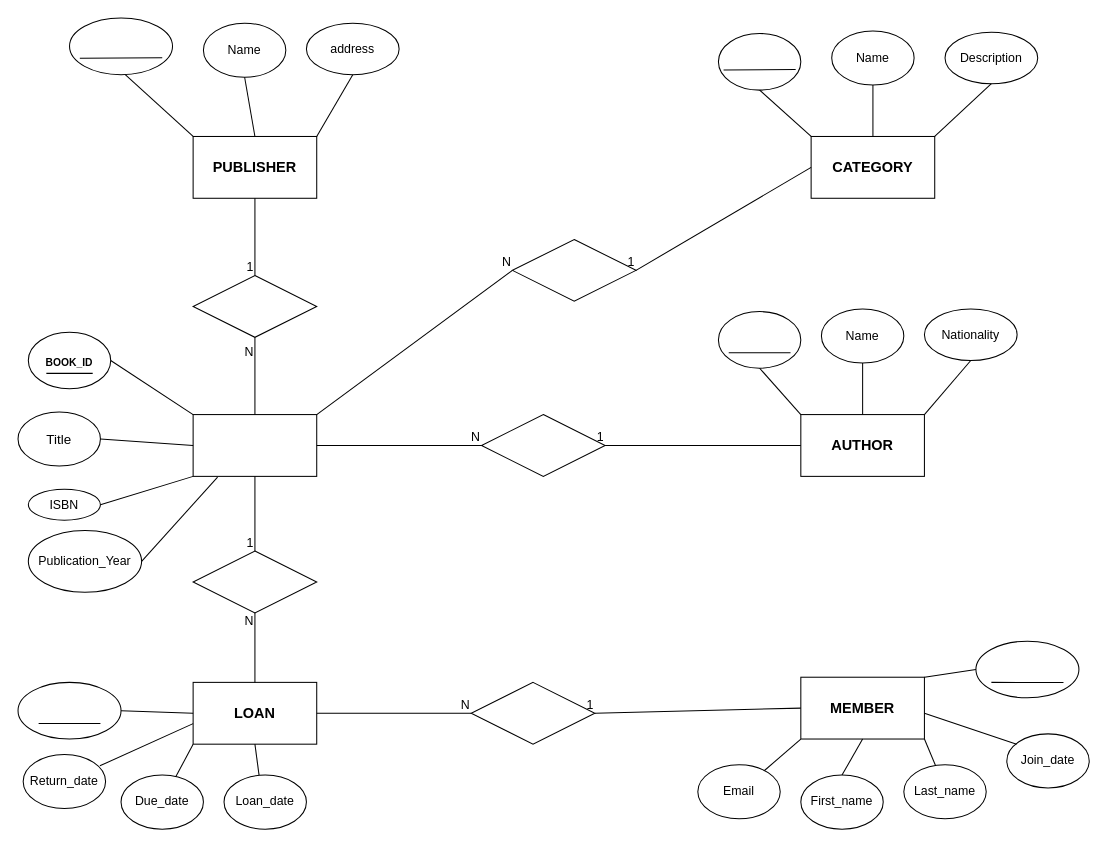
This 1107x848 diagram has some shape labels left out. Here are the shapes that lost their labels. From the top down, the box of each, then its label:
(68, 17, 173, 75): PUBLISHER_ID
(717, 32, 801, 90): CATEGORY_ID
(511, 238, 636, 301): classifies
(192, 274, 317, 337): Publishes
(717, 311, 801, 368): AUTHOR_ID
(192, 414, 317, 476): BOOK
(480, 414, 605, 476): WRITES
(192, 550, 317, 613): Issued
(975, 640, 1079, 698): MEMBER_ID
(17, 681, 121, 739): LOAN_ID
(470, 681, 595, 744): Borrows
